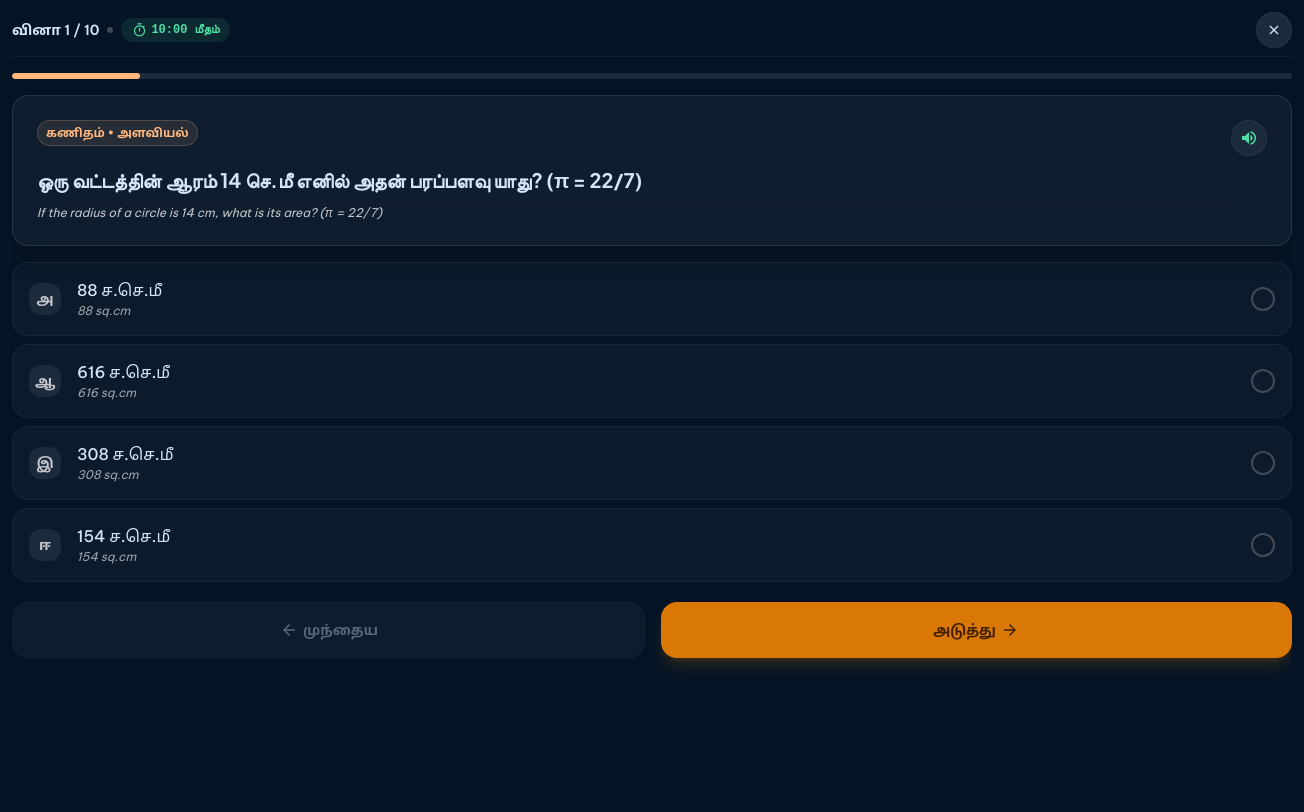
it: Screen 2: தினசரி தேர்வு (Daily Quiz Player) › executes full interactive Daily Quiz flow: load -> answer question -> reveal explanation -> navigate -> submit -> view summary
Expected: the text "வினா 1 / 10" is shown, [12, 20, 99, 40]
Expected: the button with test id "option-B" is shown, [12, 344, 1292, 418]
Note: Select Option A
Step 1. Click the button with test id "option-A" → (45, 298), box [12, 262, 1292, 336]
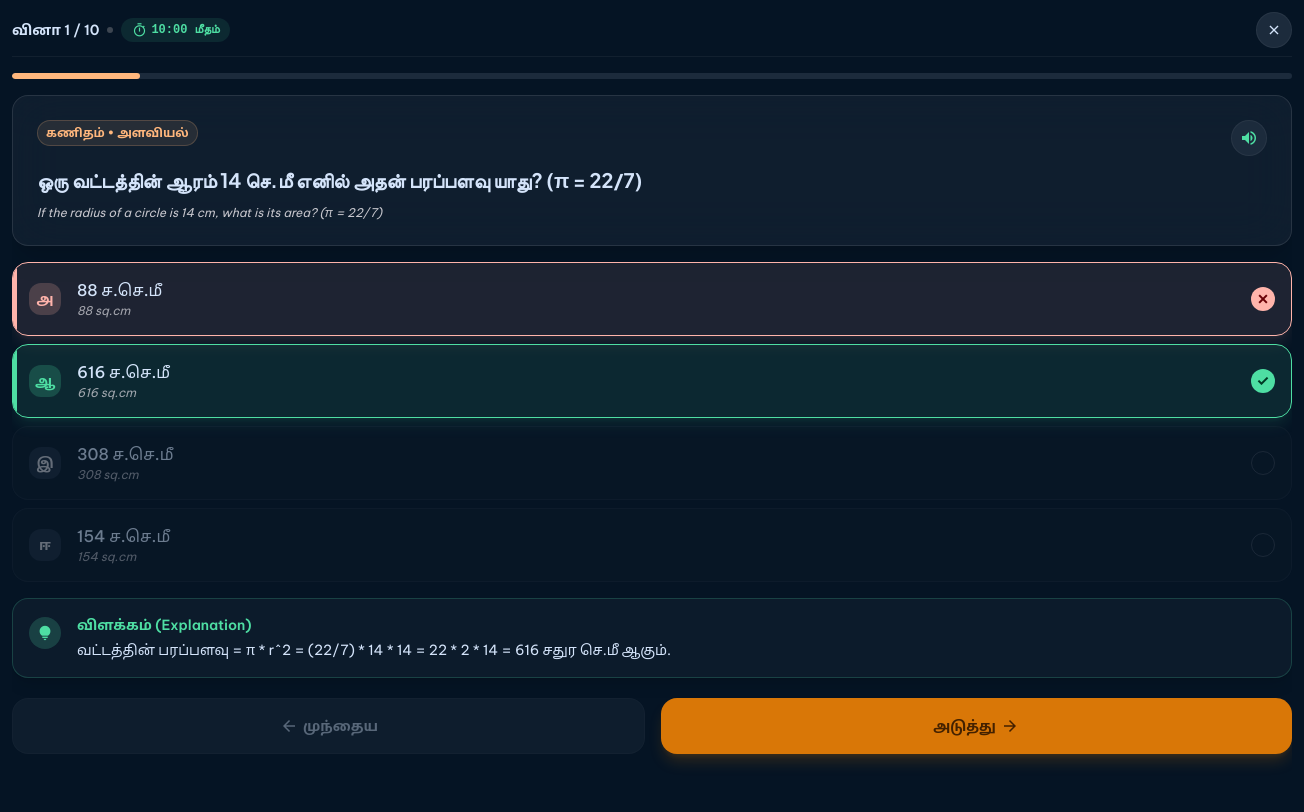
Result: the text "விளக்கம் (Explanation)" is shown at [77, 616, 252, 634]
Result: the button with test id "option-A" is disabled at [12, 262, 1292, 336]
Result: the button with test id "option-B" is disabled at [12, 344, 1292, 418]
Note: Navigate to Question 2
Step 2. Click the button "அடுத்து" → (976, 726), box [661, 698, 1292, 754]
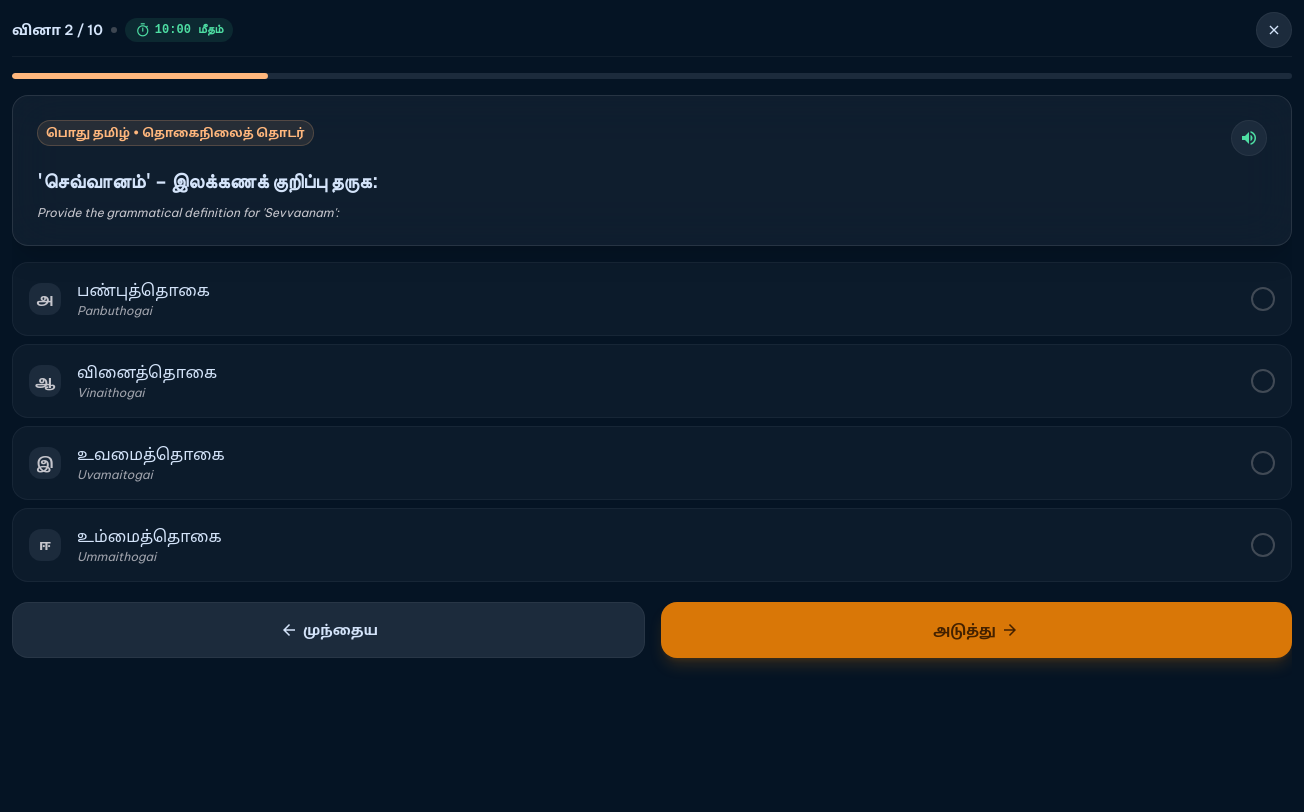
Result: the text "வினா 2 / 10" is shown at [12, 20, 103, 40]
Result: the button "முந்தைய" is enabled
Step 3. Click the button "முந்தைய" → (328, 630), box [12, 602, 645, 658]
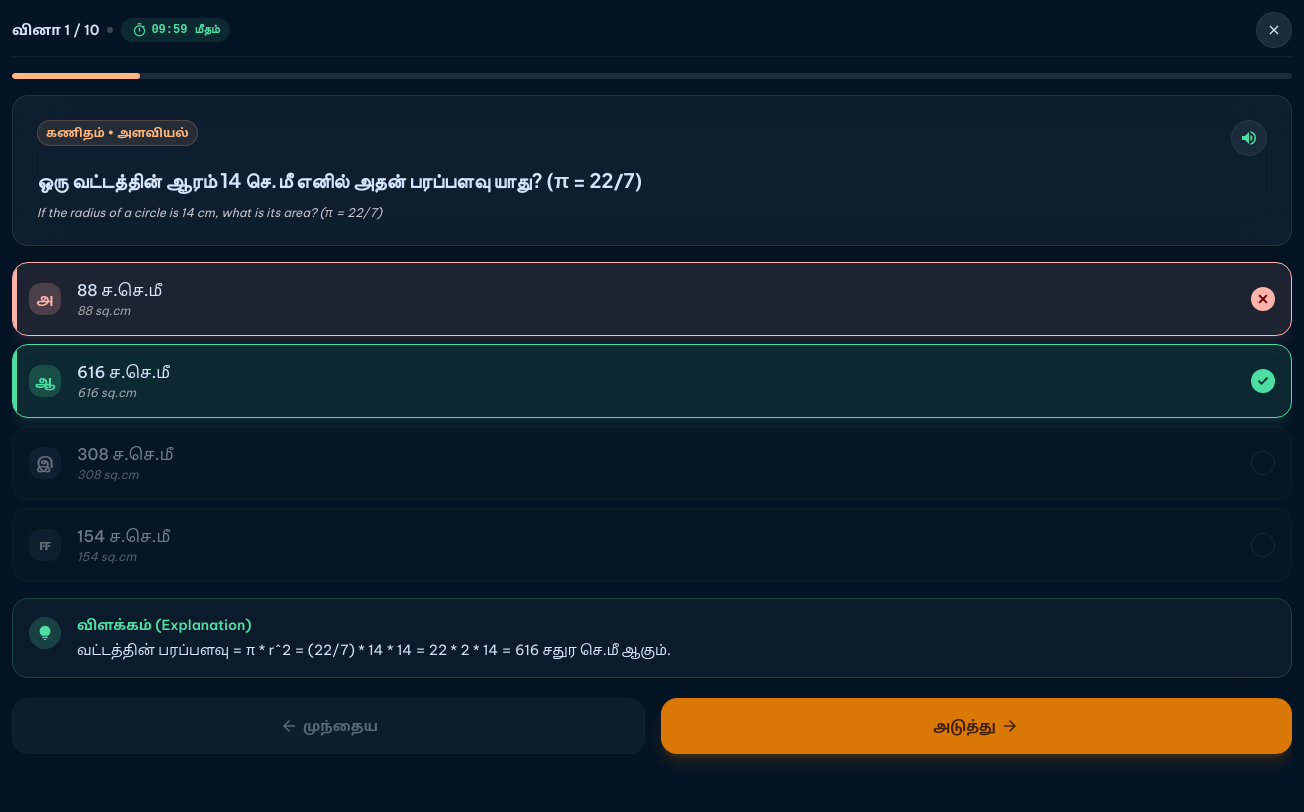
Result: the text "வினா 1 / 10" is shown at [12, 20, 99, 40]
